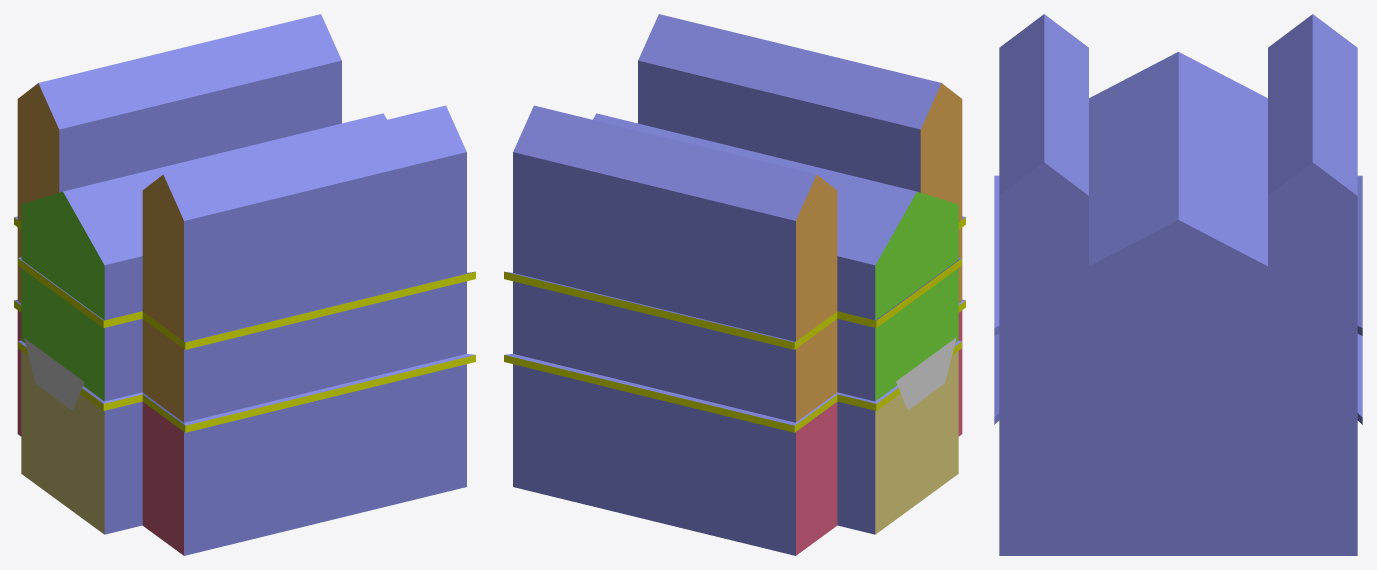
The model's file is HellBar.fbx.
3 views of the same model, side by side, from view 1: azimuth 30°, elevation 25°; view 2: azimuth 150°, elevation 25°; view 3: azimuth 270°, elevation 25° (orthographic). The views are drawn at different scales.
Parts seen in each view (by area): view 1: Cube, Plane; view 2: Cube, Plane; view 3: Cube.
Boxes of the visible parts, x1,y1,x2,y2 form: Cube: [14, 14, 475, 555]; Plane: [24, 338, 84, 410]; Cube: [504, 14, 965, 555]; Plane: [896, 337, 956, 409]; Cube: [994, 14, 1362, 555].
Size of the model in its own units: 1049 by 1092 by 925.
